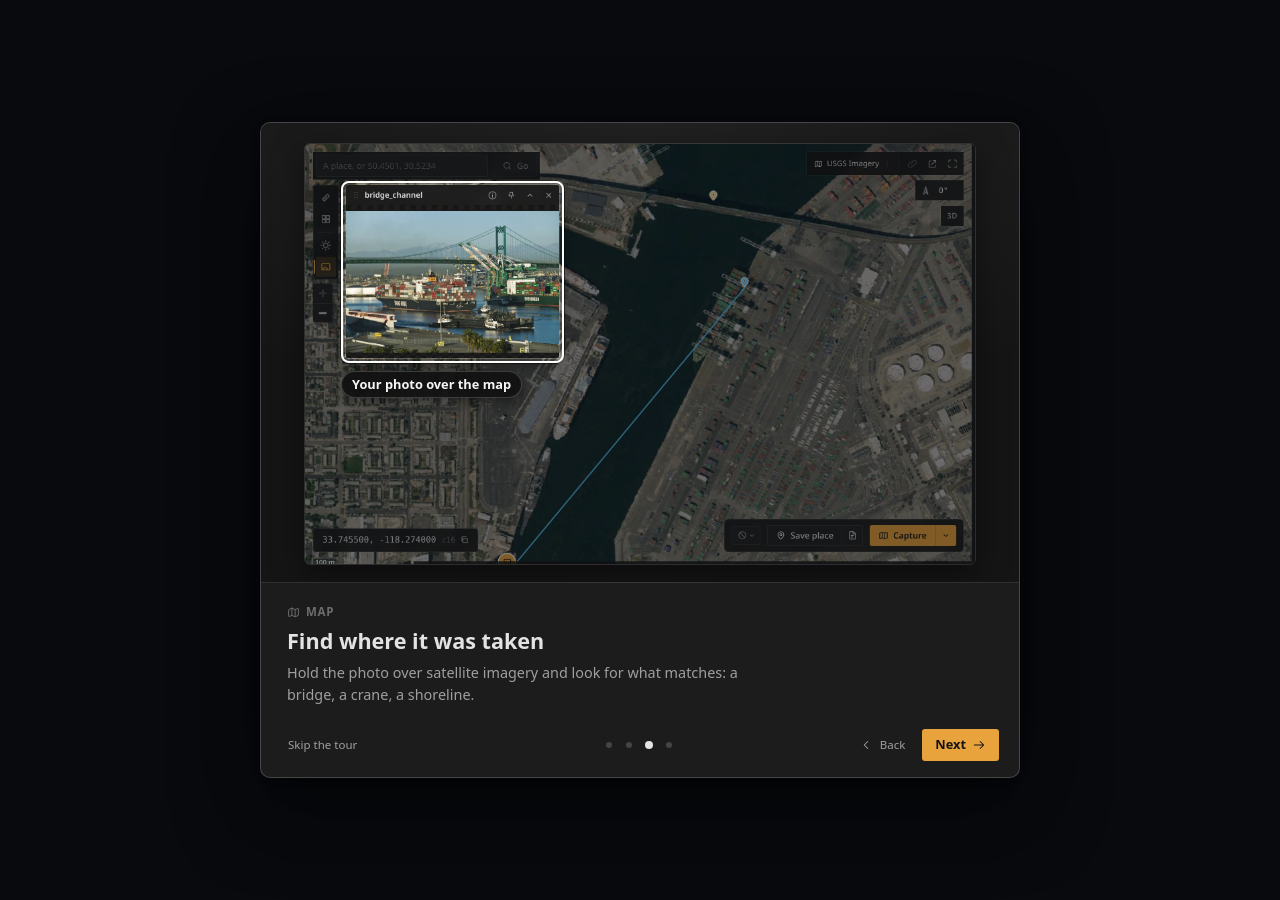
Scenario: the tour › points at the `?` on its last page only
Click the button "Next" at (961,745), box [922, 729, 999, 761]
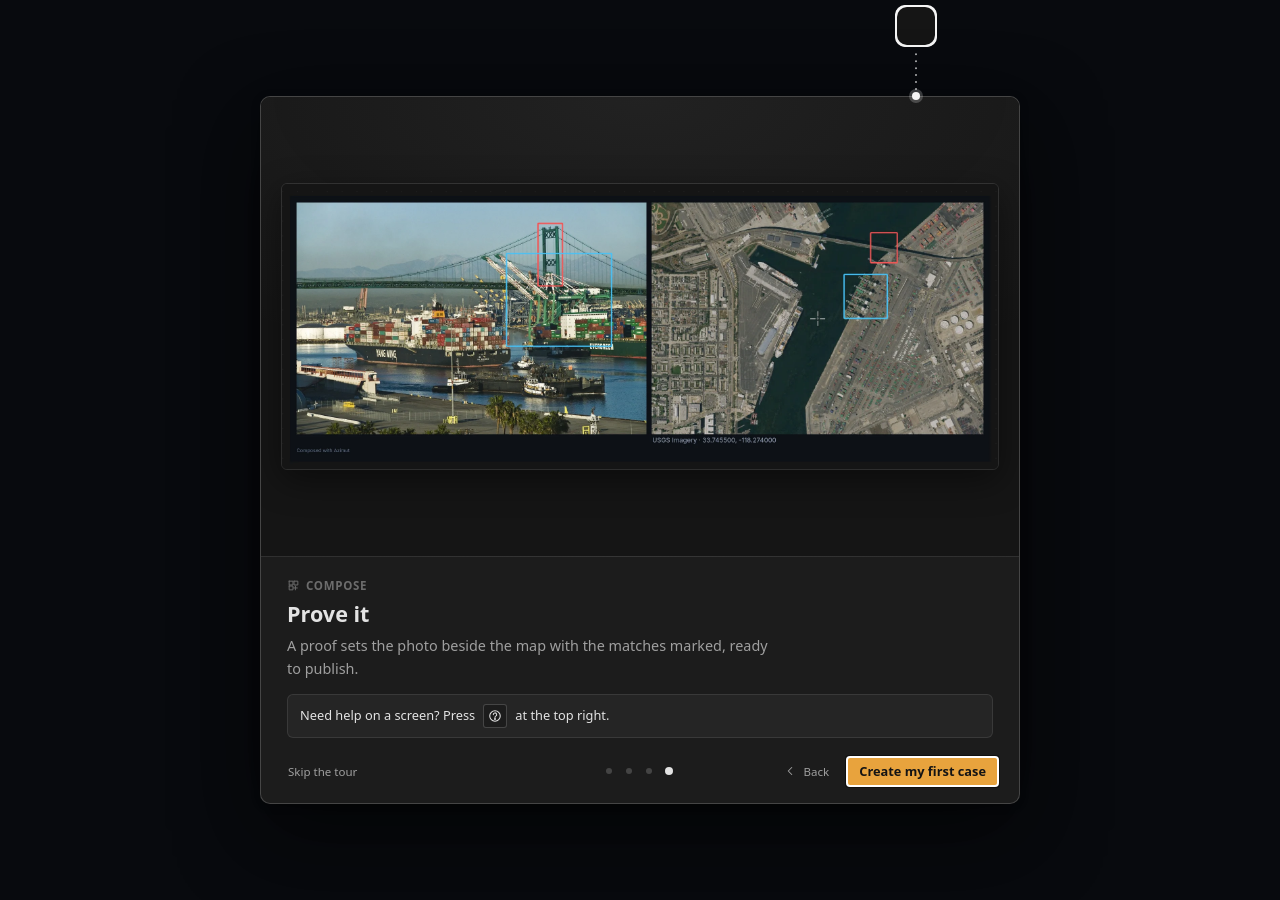
Expected: the button with class "lit" is shown, [897, 7, 935, 45]
